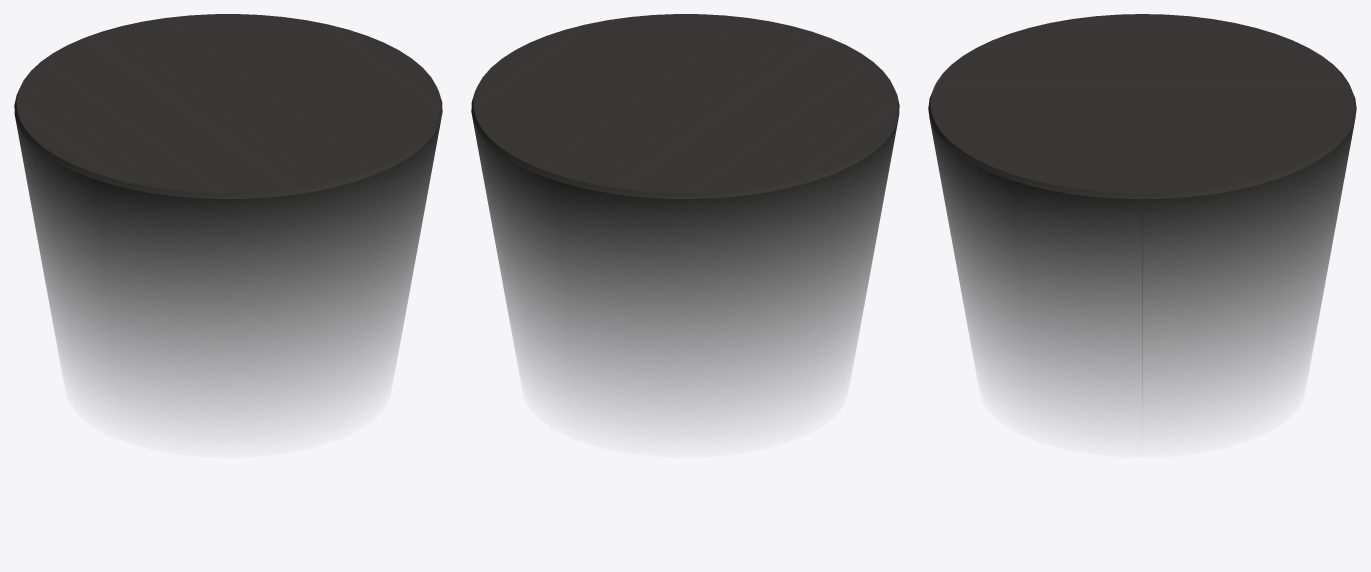
Rendered from museum_pedestal.glb.
3 views of the same model, side by side, from view 1: azimuth 30°, elevation 25°; view 2: azimuth 150°, elevation 25°; view 3: azimuth 270°, elevation 25° (orthographic).
Visible parts, largest first — view 1: pedestal.001; view 2: pedestal.001; view 3: pedestal.001.
Part boxes in pixels (x1=…): pedestal.001: x1=14, y1=14, x2=442, y2=424; pedestal.001: x1=471, y1=14, x2=899, y2=425; pedestal.001: x1=928, y1=14, x2=1356, y2=433.
Bounding box in the file's own units: 0.84 × 0.8519 × 0.84.
Materials: 1 (1 with a texture image).
